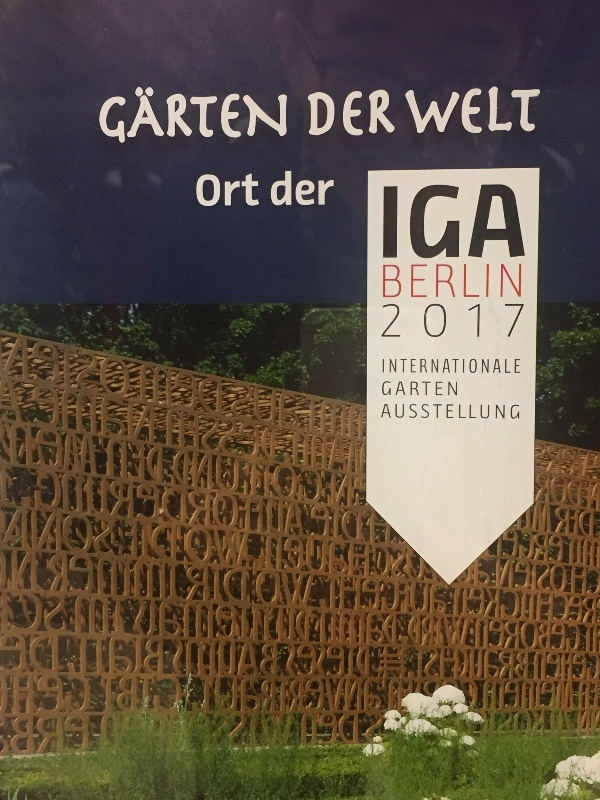text: (1, 330, 16, 759), (17, 330, 32, 759), (33, 330, 48, 759), (49, 330, 64, 759), (65, 330, 80, 759), (81, 330, 96, 759), (97, 330, 112, 759), (113, 330, 128, 759), (129, 330, 144, 759), (145, 330, 160, 759), (161, 330, 176, 759), (177, 330, 192, 759), (193, 330, 208, 759), (209, 330, 224, 759), (225, 330, 240, 759), (241, 330, 256, 759), (257, 330, 272, 759), (273, 330, 288, 759), (289, 330, 304, 759), (305, 330, 320, 759), (321, 330, 336, 759), (337, 330, 352, 759), (353, 330, 368, 759), (369, 330, 384, 759), (385, 330, 400, 759), (401, 330, 416, 759), (417, 330, 432, 759), (433, 330, 448, 759), (449, 330, 464, 759), (465, 330, 480, 759), (481, 330, 496, 759), (497, 330, 512, 759), (513, 330, 528, 759), (529, 330, 544, 759), (545, 330, 560, 759), (561, 330, 576, 759), (577, 330, 592, 759), (593, 330, 600, 759), (385, 185, 400, 259), (401, 185, 416, 259), (417, 185, 432, 259), (433, 185, 448, 259), (449, 185, 464, 259), (465, 185, 480, 259), (481, 185, 496, 259), (497, 185, 512, 259), (513, 185, 526, 259), (113, 86, 128, 142), (129, 86, 144, 142), (145, 86, 160, 142), (161, 86, 176, 142), (177, 86, 192, 142), (193, 86, 208, 142), (209, 86, 224, 142), (225, 86, 240, 142), (241, 86, 256, 142), (257, 86, 272, 142), (273, 86, 288, 142), (321, 91, 336, 138), (337, 91, 352, 138), (353, 91, 368, 138), (369, 91, 384, 138), (417, 89, 432, 136), (433, 89, 448, 136), (449, 89, 464, 136), (465, 89, 480, 136), (481, 89, 496, 136), (497, 89, 512, 136), (513, 89, 528, 136), (101, 86, 112, 142), (404, 89, 416, 136), (309, 91, 320, 138), (529, 89, 540, 136), (209, 173, 224, 207), (225, 173, 240, 207), (241, 173, 256, 207), (273, 172, 288, 206), (289, 172, 304, 206), (305, 172, 320, 206), (385, 265, 400, 299), (401, 265, 416, 299), (417, 265, 432, 299), (433, 265, 448, 299), (449, 265, 464, 299), (465, 265, 480, 299), (481, 265, 496, 299), (497, 265, 512, 299), (385, 304, 400, 337), (401, 304, 416, 337), (417, 304, 432, 337), (433, 304, 448, 337), (449, 304, 464, 337), (465, 304, 480, 337), (481, 304, 496, 337), (497, 304, 512, 337), (385, 91, 395, 138), (321, 172, 334, 206), (197, 173, 208, 207), (513, 304, 524, 337), (513, 265, 522, 299), (385, 359, 400, 373), (401, 359, 416, 373), (417, 359, 432, 373), (433, 359, 448, 373), (449, 359, 464, 373), (465, 359, 480, 373), (481, 359, 496, 373), (497, 359, 512, 373), (385, 381, 400, 395), (401, 381, 416, 395), (417, 381, 432, 395), (433, 381, 448, 395), (385, 405, 400, 419), (401, 405, 416, 419), (417, 405, 432, 419), (433, 405, 448, 419), (449, 405, 464, 419), (465, 405, 480, 419), (481, 405, 496, 419), (497, 405, 512, 419), (449, 381, 457, 395), (513, 359, 520, 373), (513, 405, 519, 419), (383, 185, 384, 259), (257, 173, 259, 207), (383, 304, 384, 337), (383, 359, 384, 373), (383, 381, 384, 395)
